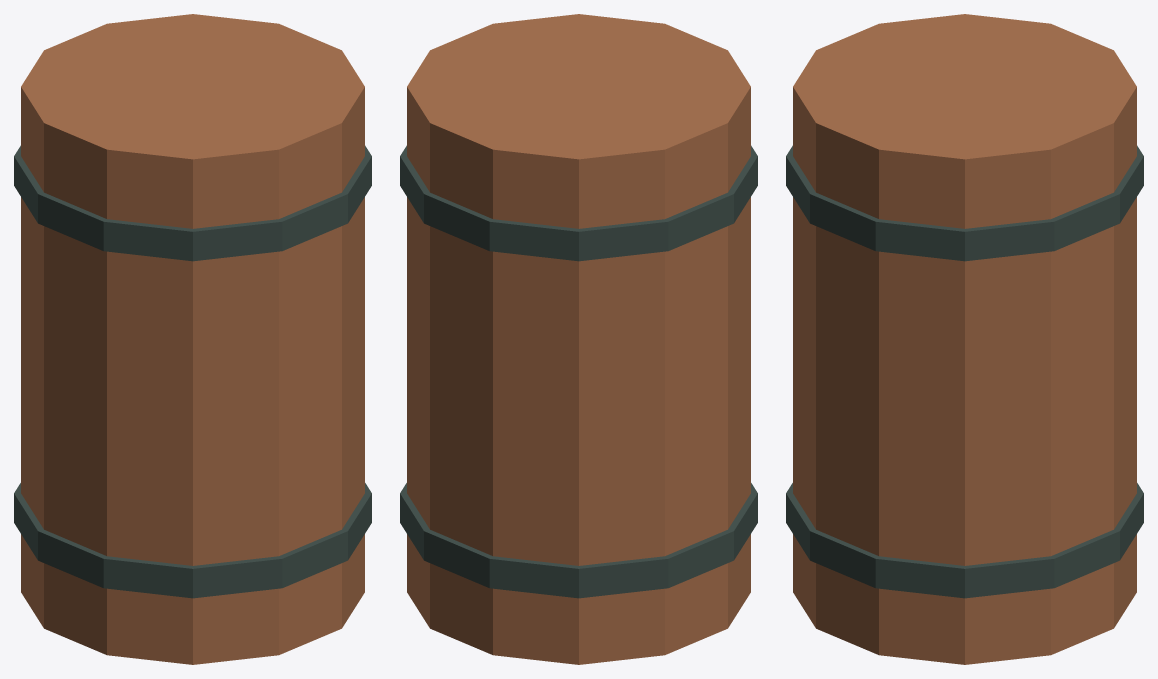
File: oil_barrel.glb
The picture shows the model from 3 angles, left to right: view 1: azimuth 30°, elevation 25°; view 2: azimuth 150°, elevation 25°; view 3: azimuth 270°, elevation 25°; orthographic projection.
Visible parts, largest first — view 1: oil_barrel.001; view 2: oil_barrel.001; view 3: oil_barrel.001.
Part boxes in pixels (x1,y1,x2,y2): oil_barrel.001: (14,14,371,664); oil_barrel.001: (400,14,757,664); oil_barrel.001: (786,14,1143,664).
Bounding box in the file's own units: 0.77 × 1.2 × 0.77.
